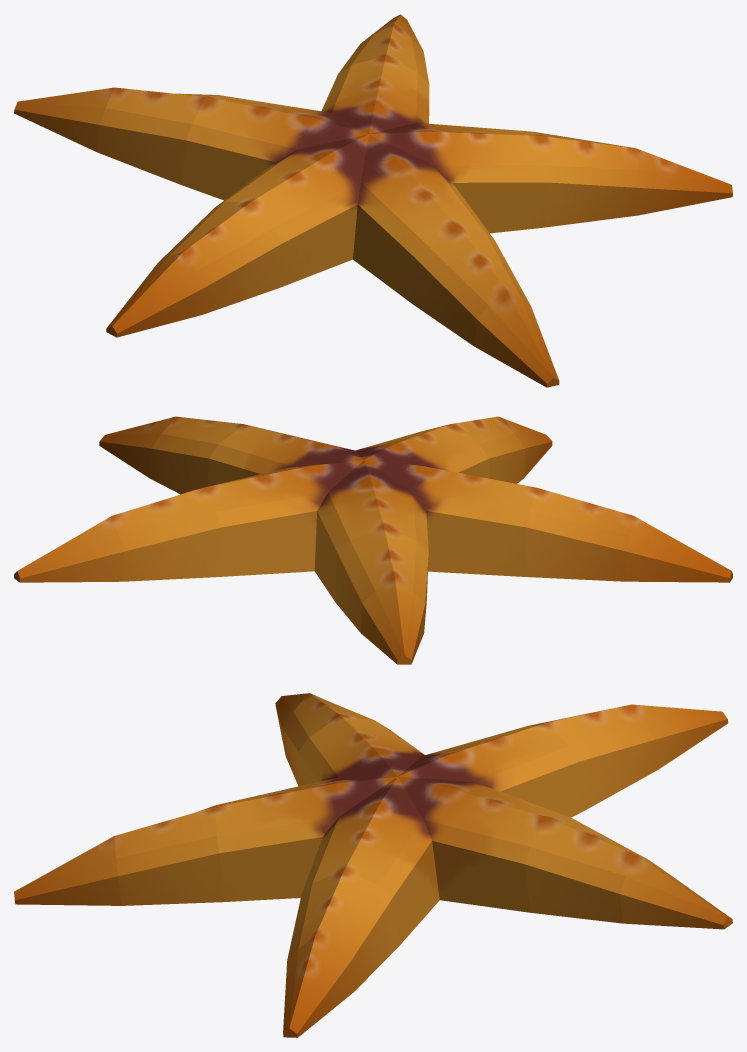
File: Starfish.fbx
The picture shows the model from 3 angles, top to bottom: view 1: azimuth 30°, elevation 25°; view 2: azimuth 150°, elevation 25°; view 3: azimuth 270°, elevation 25°; orthographic projection. The views are drawn at different scales.
Visible parts, largest first — view 1: Starfish; view 2: Starfish; view 3: Starfish.
Part boxes in pixels (bbox=[...]): Starfish: bbox=[14, 14, 732, 387]; Starfish: bbox=[14, 416, 732, 664]; Starfish: bbox=[14, 693, 732, 1037].
Size of the model in its own units: 59.13 by 11.34 by 56.13.
